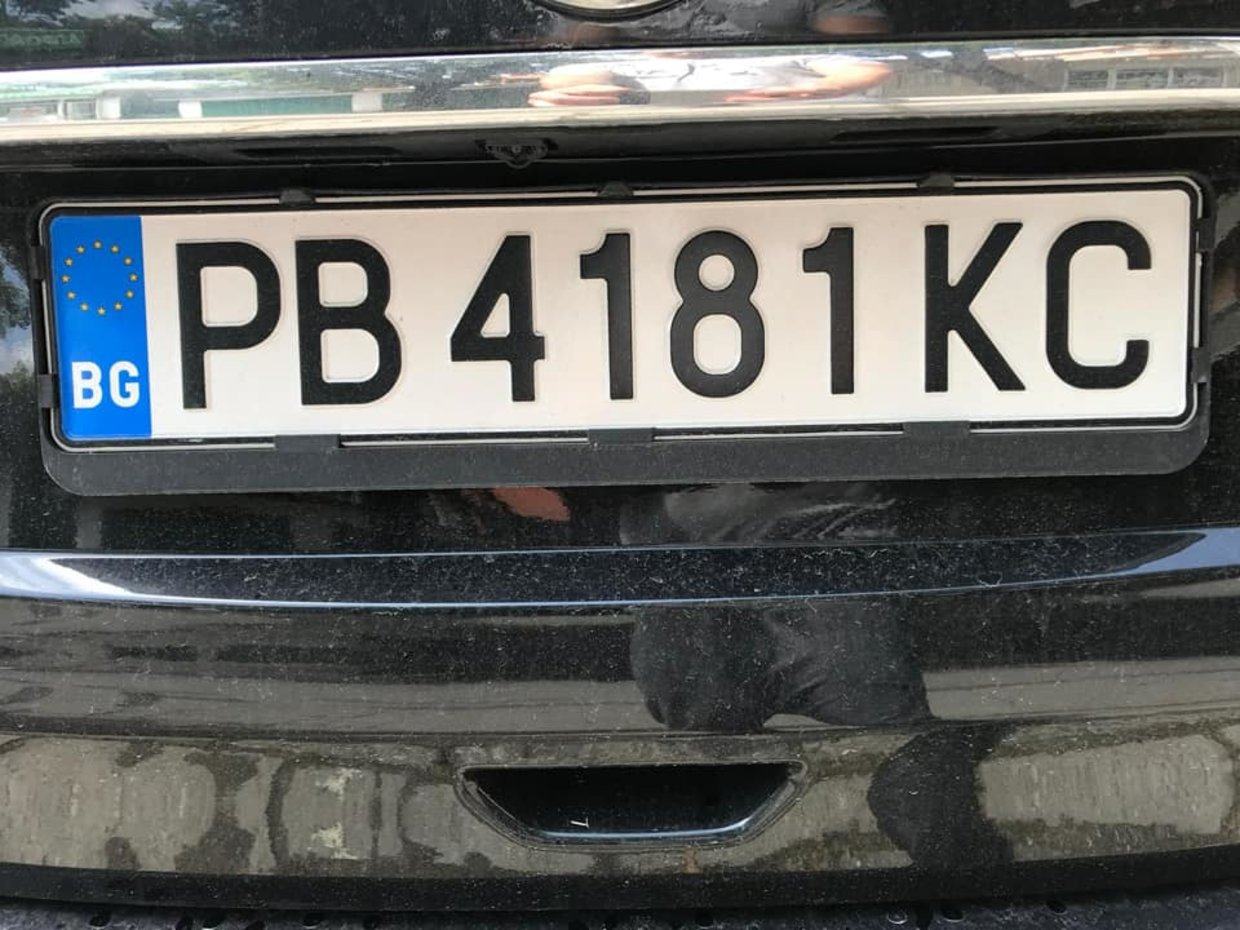registration_plate: (42, 179, 1208, 492)
